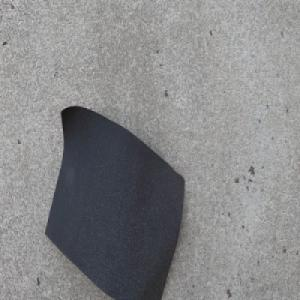PaintChip: (44, 102, 186, 300)
